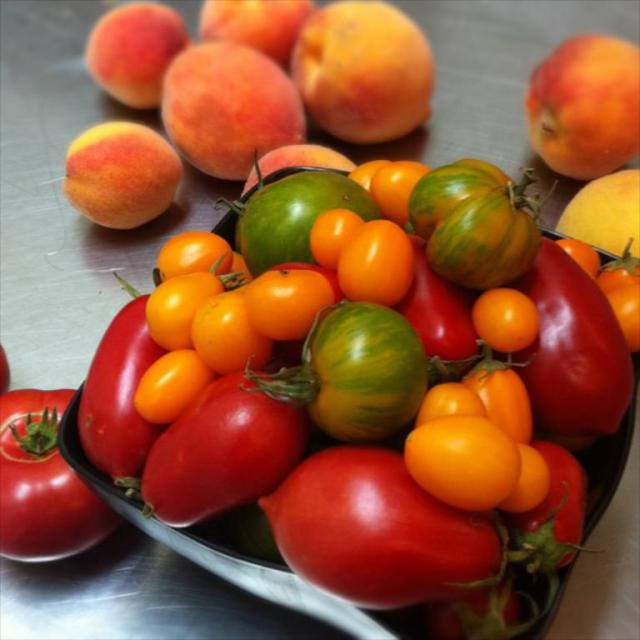Peach: (84, 0, 435, 196), (523, 32, 639, 180), (60, 119, 184, 234), (557, 168, 639, 258)
